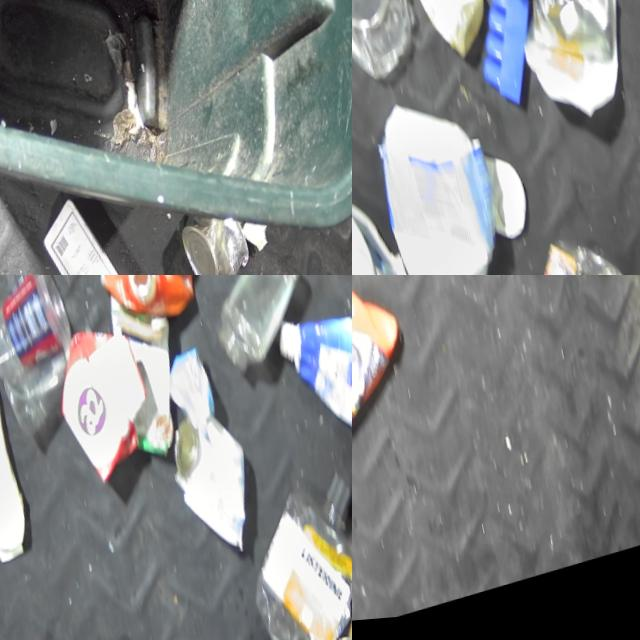can: (159, 411, 262, 561), (176, 208, 253, 275)
milk_jug: (364, 83, 512, 275)
non_white_jug: (352, 275, 422, 477), (270, 301, 352, 468), (81, 275, 205, 353)
